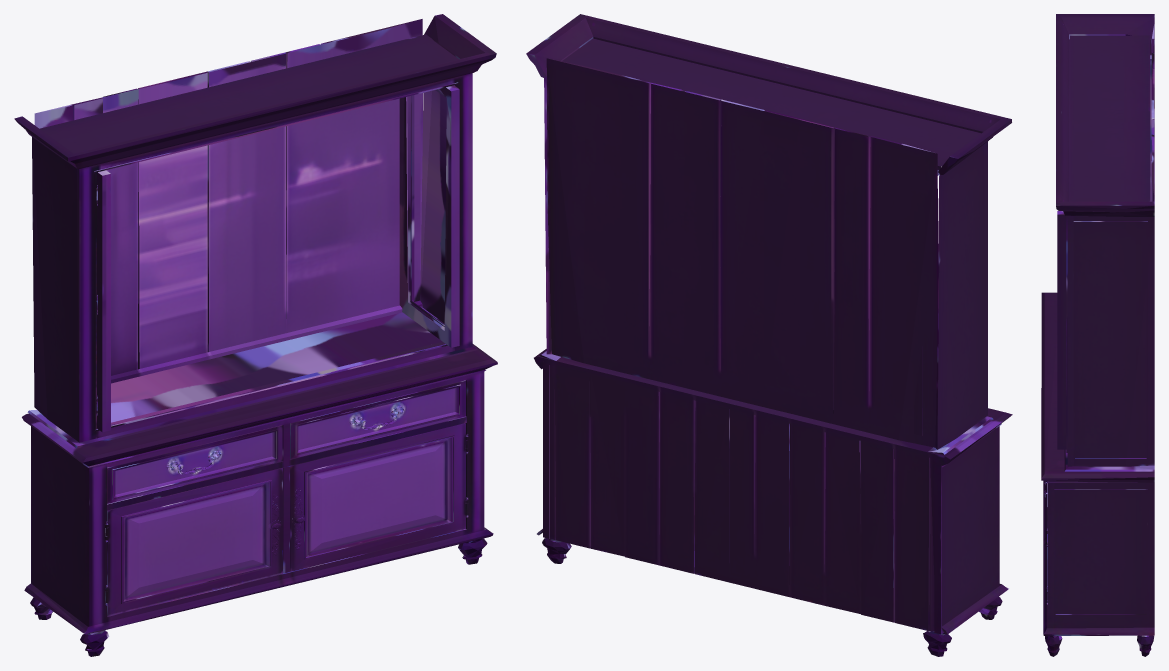
Rendered from edited_mesh.glb.
3 renders of one model, left to right at view 1: azimuth 30°, elevation 25°; view 2: azimuth 150°, elevation 25°; view 3: azimuth 270°, elevation 25°, orthographic. The views are drawn at different scales.
Visible parts, largest first — view 1: solid_001_wire; view 2: solid_001_wire; view 3: solid_001_wire.
Boxes of the visible parts, box(x1,y1,x2,y2) form: solid_001_wire: box(14, 14, 497, 656); solid_001_wire: box(526, 14, 1012, 656); solid_001_wire: box(1041, 14, 1154, 656).
Bounding box in the file's own units: 1.23 × 1.38 × 0.3083.
1 material, 1 textured.
